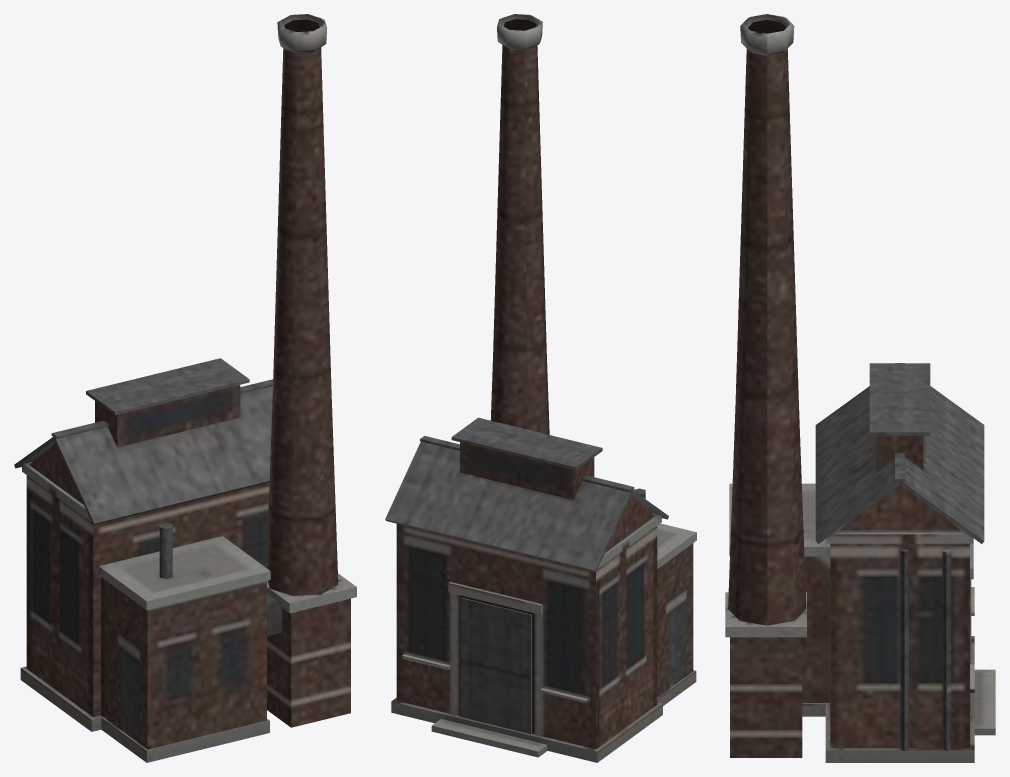
Rendered from b_powerplant_far.glb.
3 views of the same model, side by side, from view 1: azimuth 30°, elevation 25°; view 2: azimuth 150°, elevation 25°; view 3: azimuth 270°, elevation 25° (orthographic). The views are drawn at different scales.
Parts seen in each view (by area): view 1: b_powerplant_far; view 2: b_powerplant_far; view 3: b_powerplant_far.
Boxes of the visible parts, x1,y1,x2,y2 form: b_powerplant_far: (14,14,356,762); b_powerplant_far: (385,14,696,762); b_powerplant_far: (725,14,995,762).
Bounding box in the file's own units: 5.9 × 17 × 5.8.
Materials: 1 (1 with a texture image).
